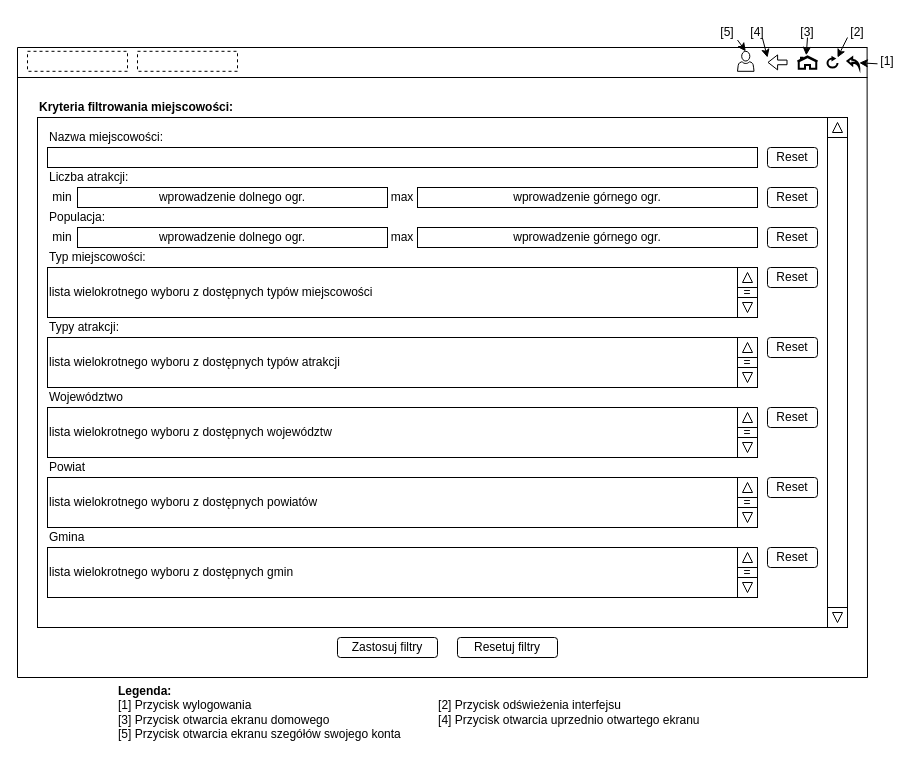
This 915x764 diagram has some shape labels left out. The shapes that lost their labels are listed below. From the top down, each one's centre as x and y in pixels, then its label:
At point 77,60: "login".
At point 187,60: "rola".
At point 402,157: "pole do wprowadzenia nazwy miejscowości (lub jej części)".
